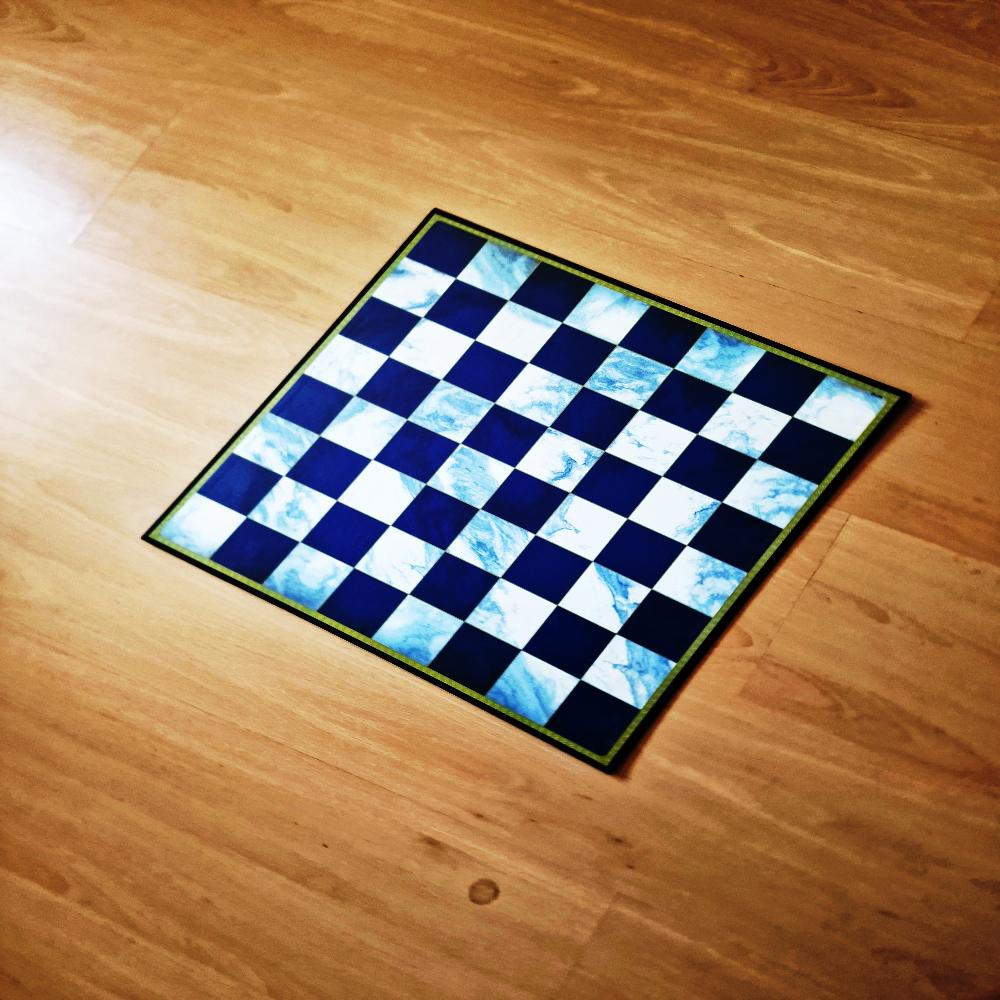chessfield: (794, 376, 899, 451), (654, 544, 752, 624), (580, 634, 679, 713), (548, 682, 641, 765), (724, 461, 822, 537), (485, 652, 582, 727), (145, 495, 249, 563), (557, 563, 653, 636), (618, 590, 711, 664), (373, 595, 466, 668), (468, 578, 561, 650), (629, 476, 724, 546), (262, 541, 358, 610), (605, 410, 700, 479), (690, 505, 782, 576), (698, 394, 792, 463), (523, 610, 614, 681), (355, 527, 446, 598), (762, 417, 855, 485), (430, 626, 521, 695), (447, 512, 538, 581), (536, 496, 626, 565), (247, 475, 337, 544), (596, 520, 687, 588), (676, 329, 768, 396), (666, 435, 757, 501), (232, 412, 323, 478), (338, 461, 426, 529), (322, 397, 411, 464), (320, 571, 409, 638), (584, 347, 674, 413), (411, 555, 498, 623), (504, 537, 591, 605), (426, 446, 514, 513), (407, 383, 496, 449), (497, 363, 586, 429), (734, 354, 825, 418), (483, 469, 571, 535), (572, 455, 661, 520), (517, 428, 604, 494), (566, 283, 652, 349), (393, 485, 480, 550), (642, 369, 730, 433), (214, 519, 300, 584), (304, 504, 389, 569), (303, 333, 389, 397), (529, 322, 616, 385), (553, 391, 640, 454), (392, 317, 477, 381), (476, 302, 562, 365), (458, 241, 544, 304), (621, 306, 706, 369), (374, 263, 463, 323), (378, 421, 461, 485), (444, 344, 529, 406), (288, 437, 372, 499), (464, 406, 548, 468), (356, 358, 441, 419), (197, 454, 282, 515), (338, 297, 423, 358), (511, 262, 595, 323), (272, 375, 356, 436), (425, 278, 507, 340), (404, 218, 486, 280)
